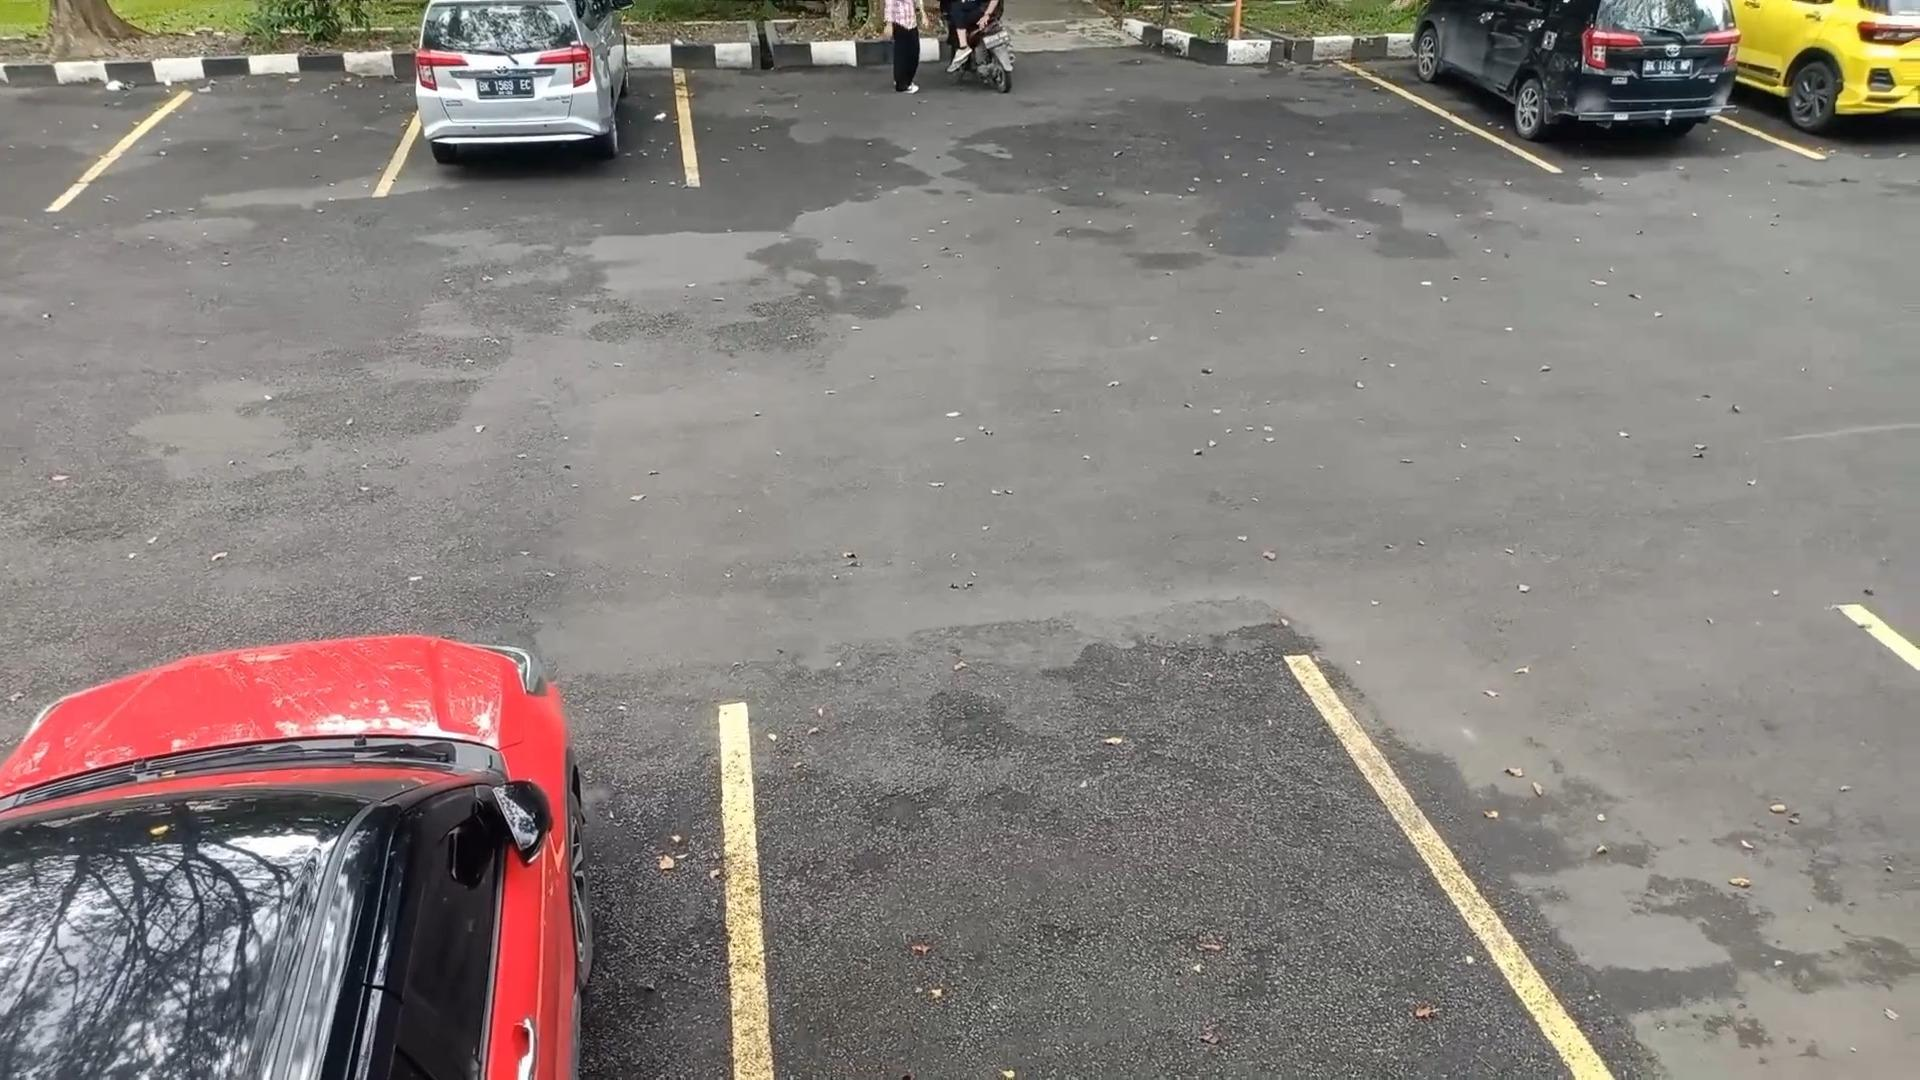empty: (721, 665, 1491, 1080), (104, 25, 404, 201)
occupied: (1408, 0, 1752, 168), (404, 0, 693, 190)
